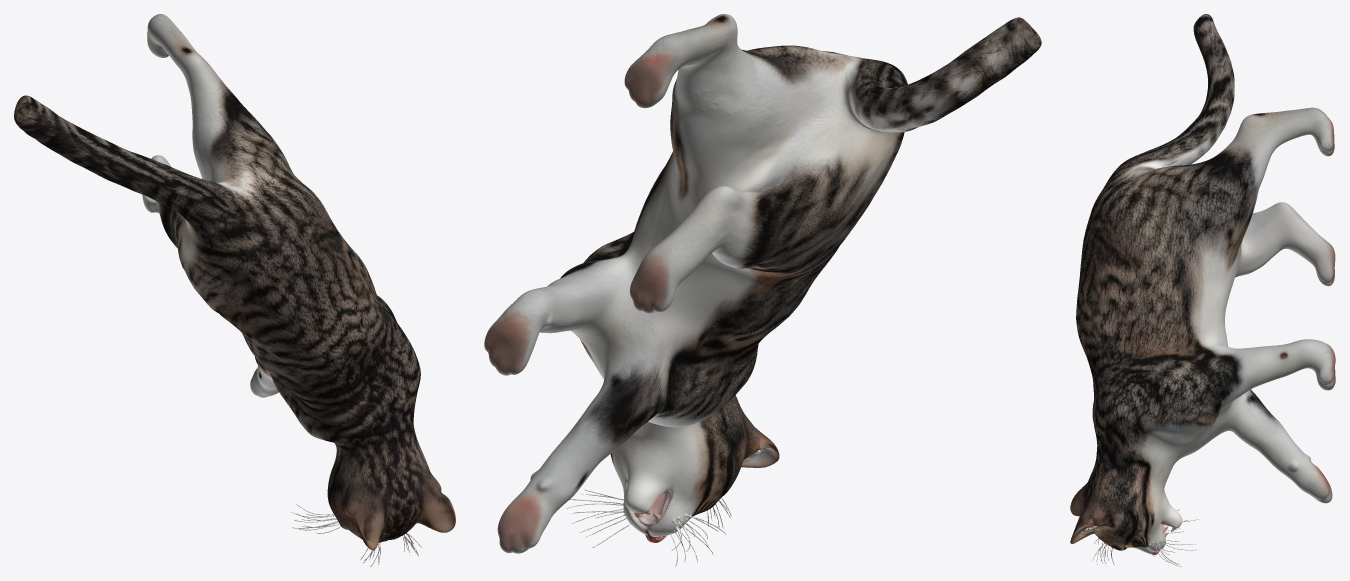
File: cat.obj
3 renders of one model, left to right at view 1: azimuth 30°, elevation 25°; view 2: azimuth 150°, elevation 25°; view 3: azimuth 270°, elevation 25°, orthographic. The views are drawn at different scales.
Visible parts, largest first — view 1: Object_0; view 2: Object_0; view 3: Object_0.
Boxes of the visible parts, x1,y1,x2,y2 form: Object_0: [14, 14, 455, 566]; Object_0: [484, 14, 1041, 566]; Object_0: [1070, 14, 1335, 566].
Bounding box in the file's own units: 0.3153 × 0.4 × 0.2307.
1 material, 1 textured.
